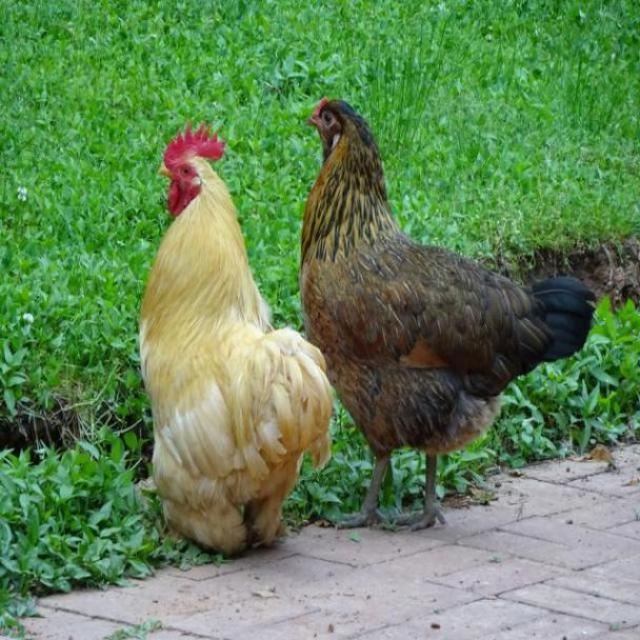Chicken: (303, 97, 600, 540), (140, 115, 332, 551)
